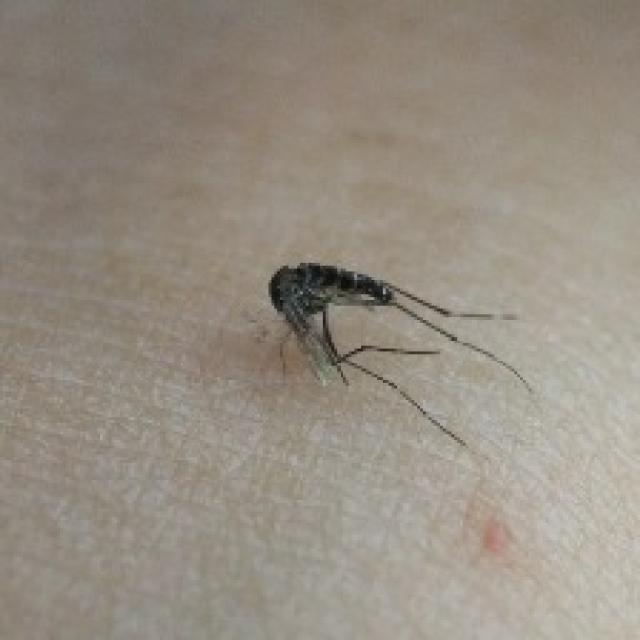aedes: (263, 257, 534, 472)
